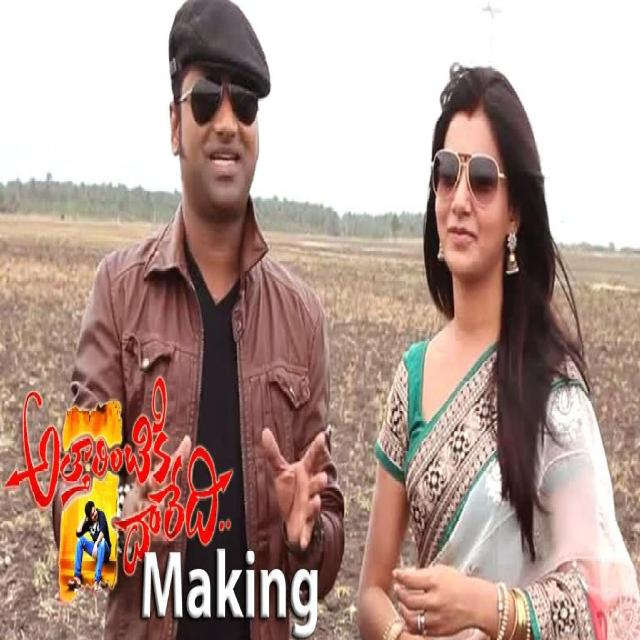Face: (428, 99, 511, 294), (177, 54, 268, 228)
